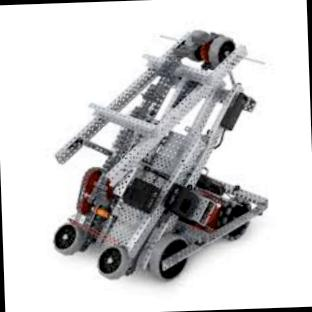Robot: (54, 31, 267, 279)
